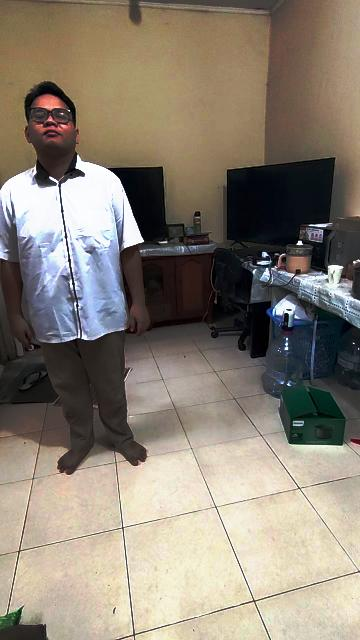berdiri: (0, 81, 154, 481)
